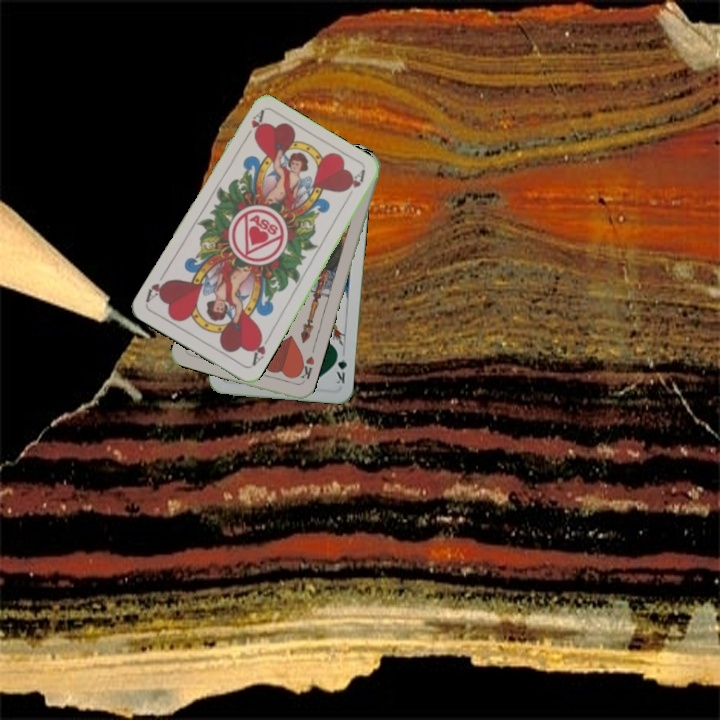GK: (332, 347, 349, 386)
HA: (247, 330, 273, 369), (240, 107, 266, 144)
HK: (293, 352, 317, 386)
